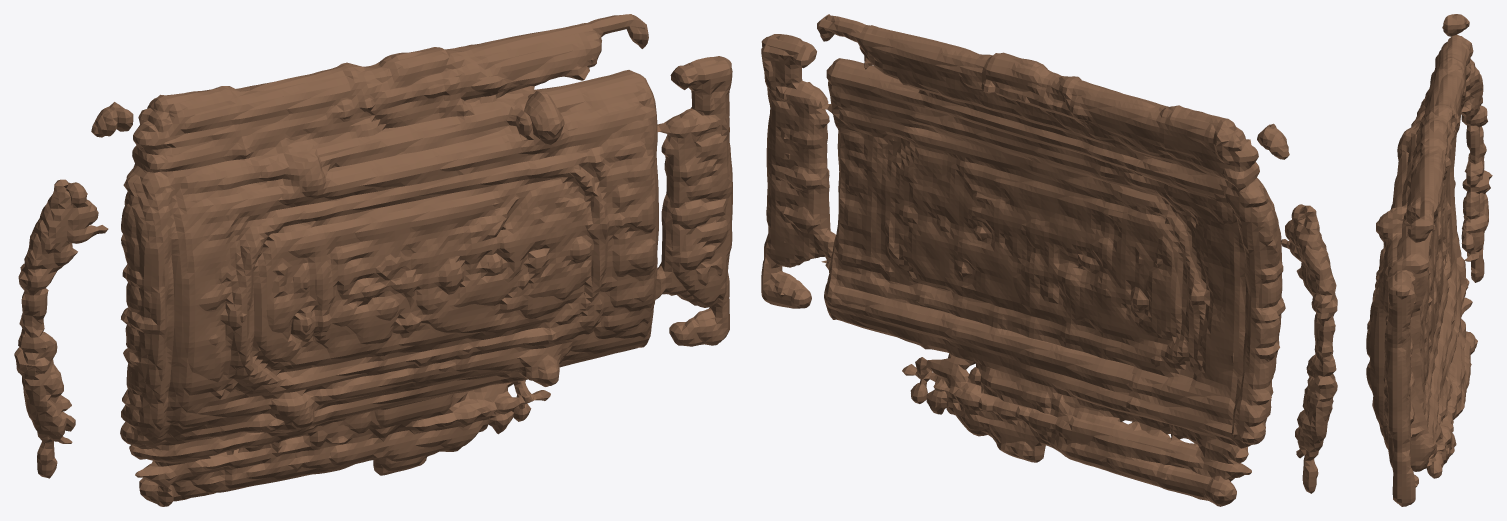
The model's file is raw.glb.
The picture shows the model from 3 angles, left to right: view 1: azimuth 30°, elevation 25°; view 2: azimuth 150°, elevation 25°; view 3: azimuth 270°, elevation 25°; orthographic projection. The views are drawn at different scales.
Parts seen in each view (by area): view 1: world; view 2: world; view 3: world.
Part boxes in pixels (box(x1,y1,x2,y2)): world: box(14, 14, 732, 506); world: box(761, 14, 1337, 506); world: box(1366, 14, 1492, 506).
Size of the model in its own units: 1.2 by 0.7388 by 0.2531.
